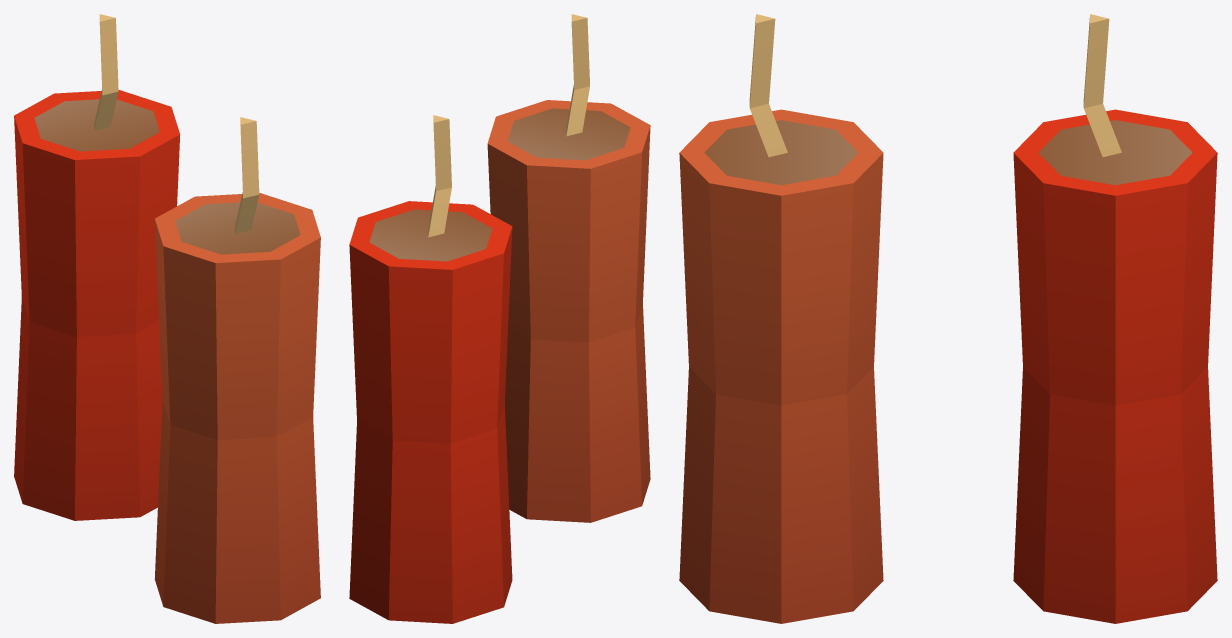
Rendered from Dinamite.fbx.
3 renders of one model, left to right at view 1: azimuth 30°, elevation 25°; view 2: azimuth 150°, elevation 25°; view 3: azimuth 270°, elevation 25°, orthographic. The views are drawn at different scales.
Visible parts, largest first — view 1: Cylinder.007, Cylinder.001; view 2: Cylinder.001, Cylinder.007; view 3: Cylinder.007, Cylinder.001.
Boxes of the visible parts, <box> form: Cylinder.007: <box>154,117,320,623</box>; Cylinder.001: <box>14,14,180,520</box>; Cylinder.001: <box>349,115,512,623</box>; Cylinder.007: <box>487,14,650,522</box>; Cylinder.007: <box>679,14,883,623</box>; Cylinder.001: <box>1013,14,1217,623</box>.
Size of the model in its own units: 77.69 by 236 by 205.
Materials: 1 (1 with a texture image).
